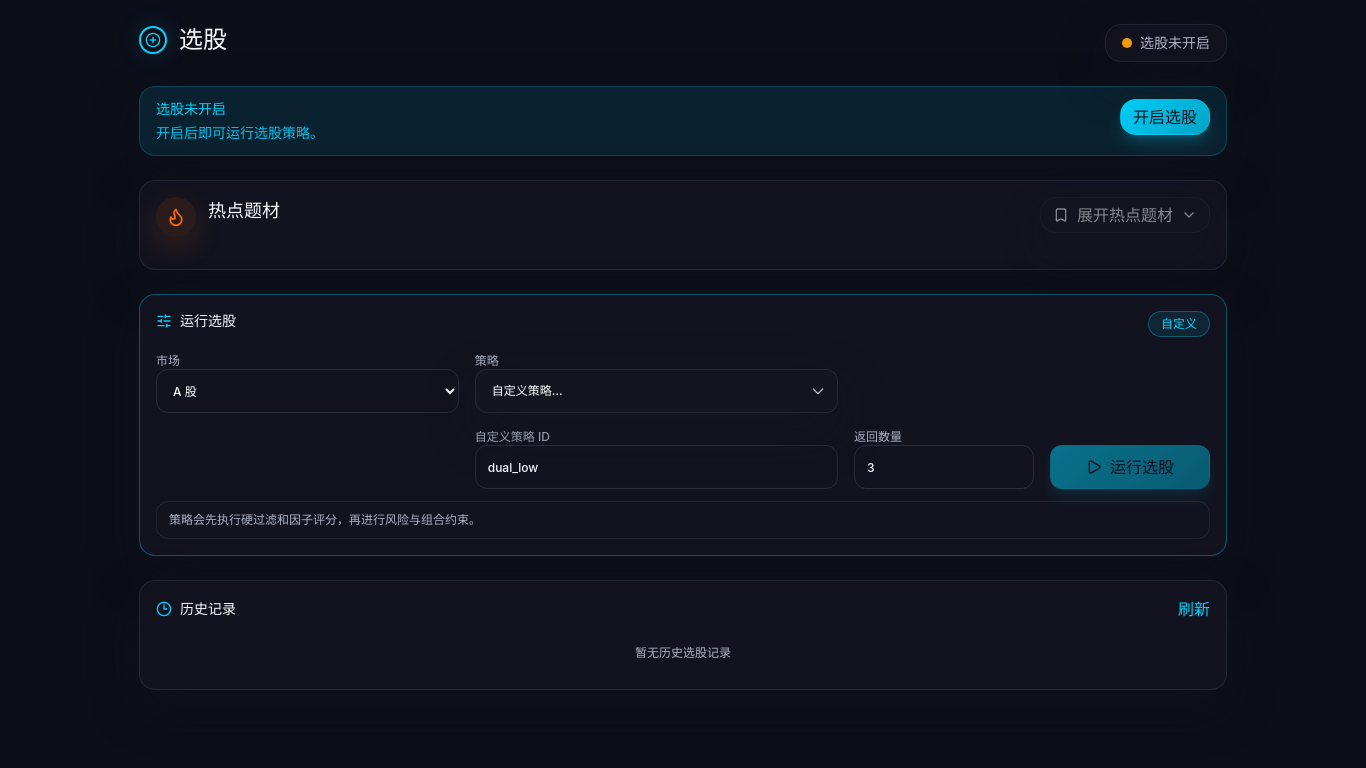
Test: StockScreeningPage › re-syncs enabled state when Screening availability check fails after config is enabled
Expected: the 1st text "选股未开启" is shown, [1140,33,1210,53]
Expected: the button "运行选股" is disabled, [1050,445,1210,489]
Step 1. Click the button "开启选股" → point(1165, 117), box [1120,99,1210,135]
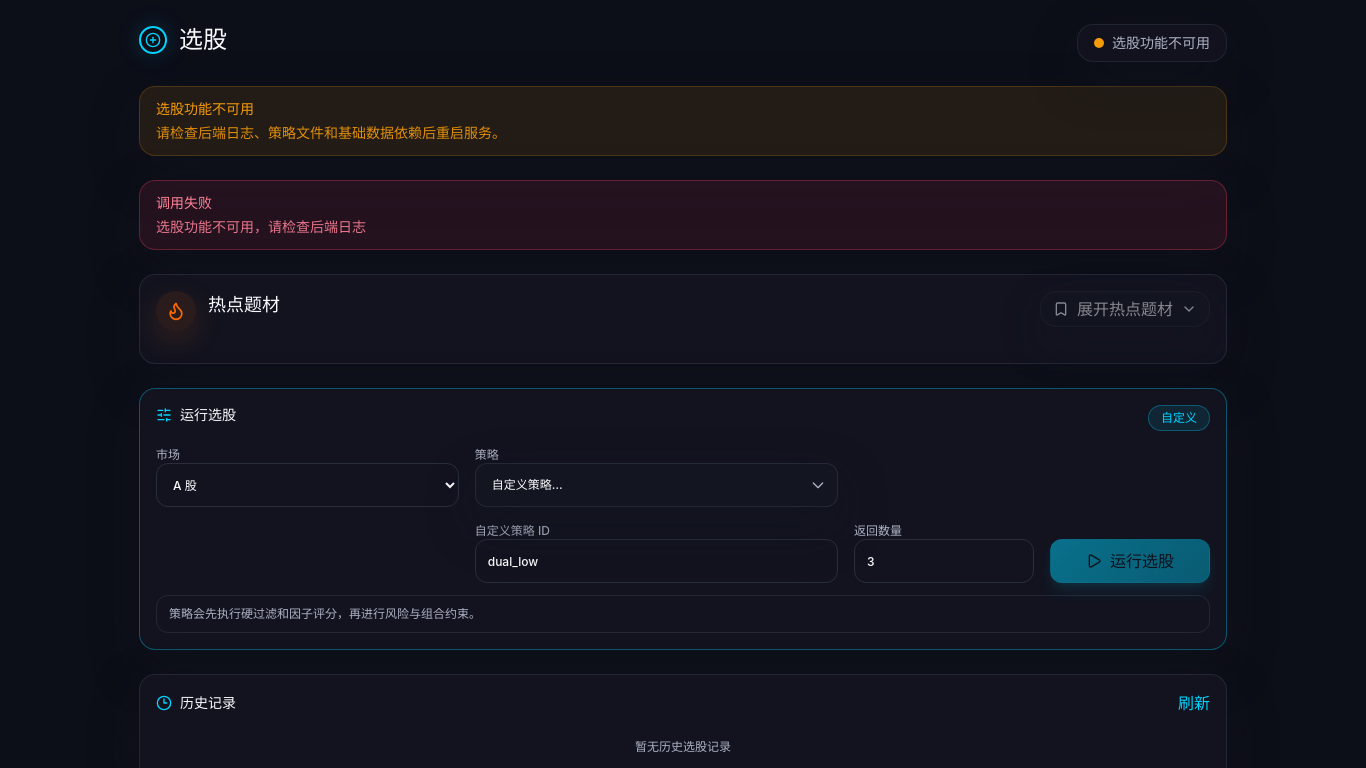
Expected: the text "选股未开启" is gone
Expected: the 1st text "选股功能不可用" is shown, [1112,33,1210,53]
Expected: the text "选股功能不可用，请检查后端日志" is shown, [156,217,366,237]
